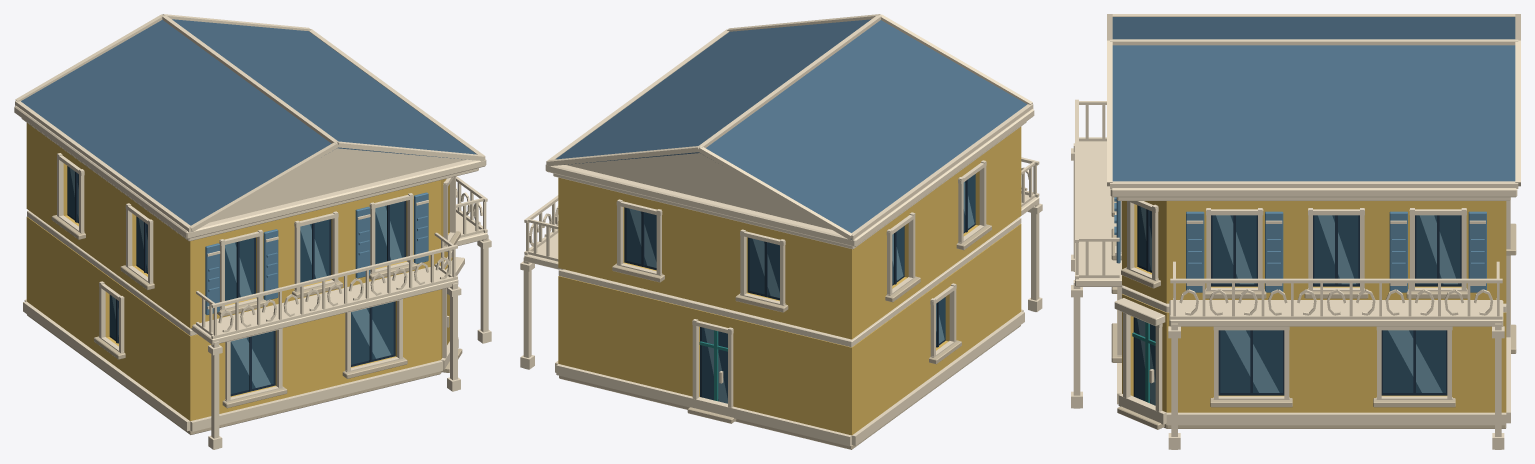
Rendered from wrap_balcony_house.glb.
The picture shows the model from 3 angles, left to right: view 1: azimuth 30°, elevation 25°; view 2: azimuth 150°, elevation 25°; view 3: azimuth 270°, elevation 25°; orthographic projection. The views are drawn at different scales.
Parts seen in each view (by area): view 1: WrapBalconyHouse_StaticMesh; view 2: WrapBalconyHouse_StaticMesh; view 3: WrapBalconyHouse_StaticMesh.
Boxes of the visible parts, bbox=[...] form: WrapBalconyHouse_StaticMesh: bbox=[14, 14, 491, 449]; WrapBalconyHouse_StaticMesh: bbox=[520, 14, 1042, 449]; WrapBalconyHouse_StaticMesh: bbox=[1071, 14, 1520, 449].
Bounding box in the file's own units: 10.45 × 7.96 × 10.54.
